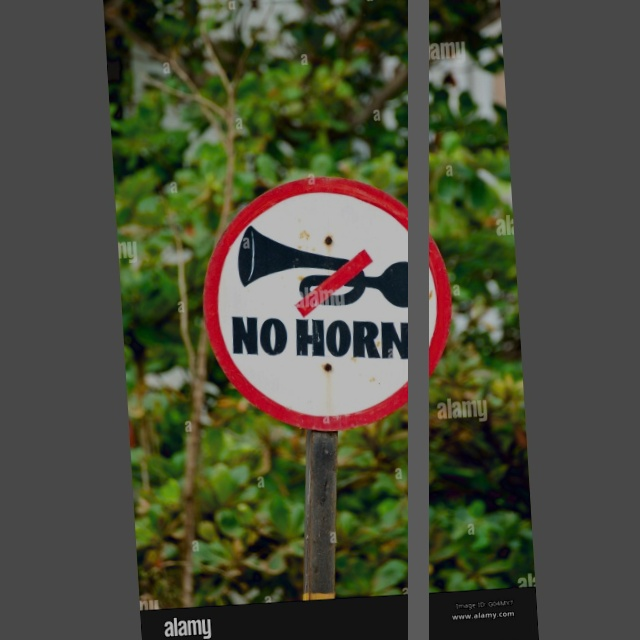Horn_Prohibited: (202, 165, 456, 441)
